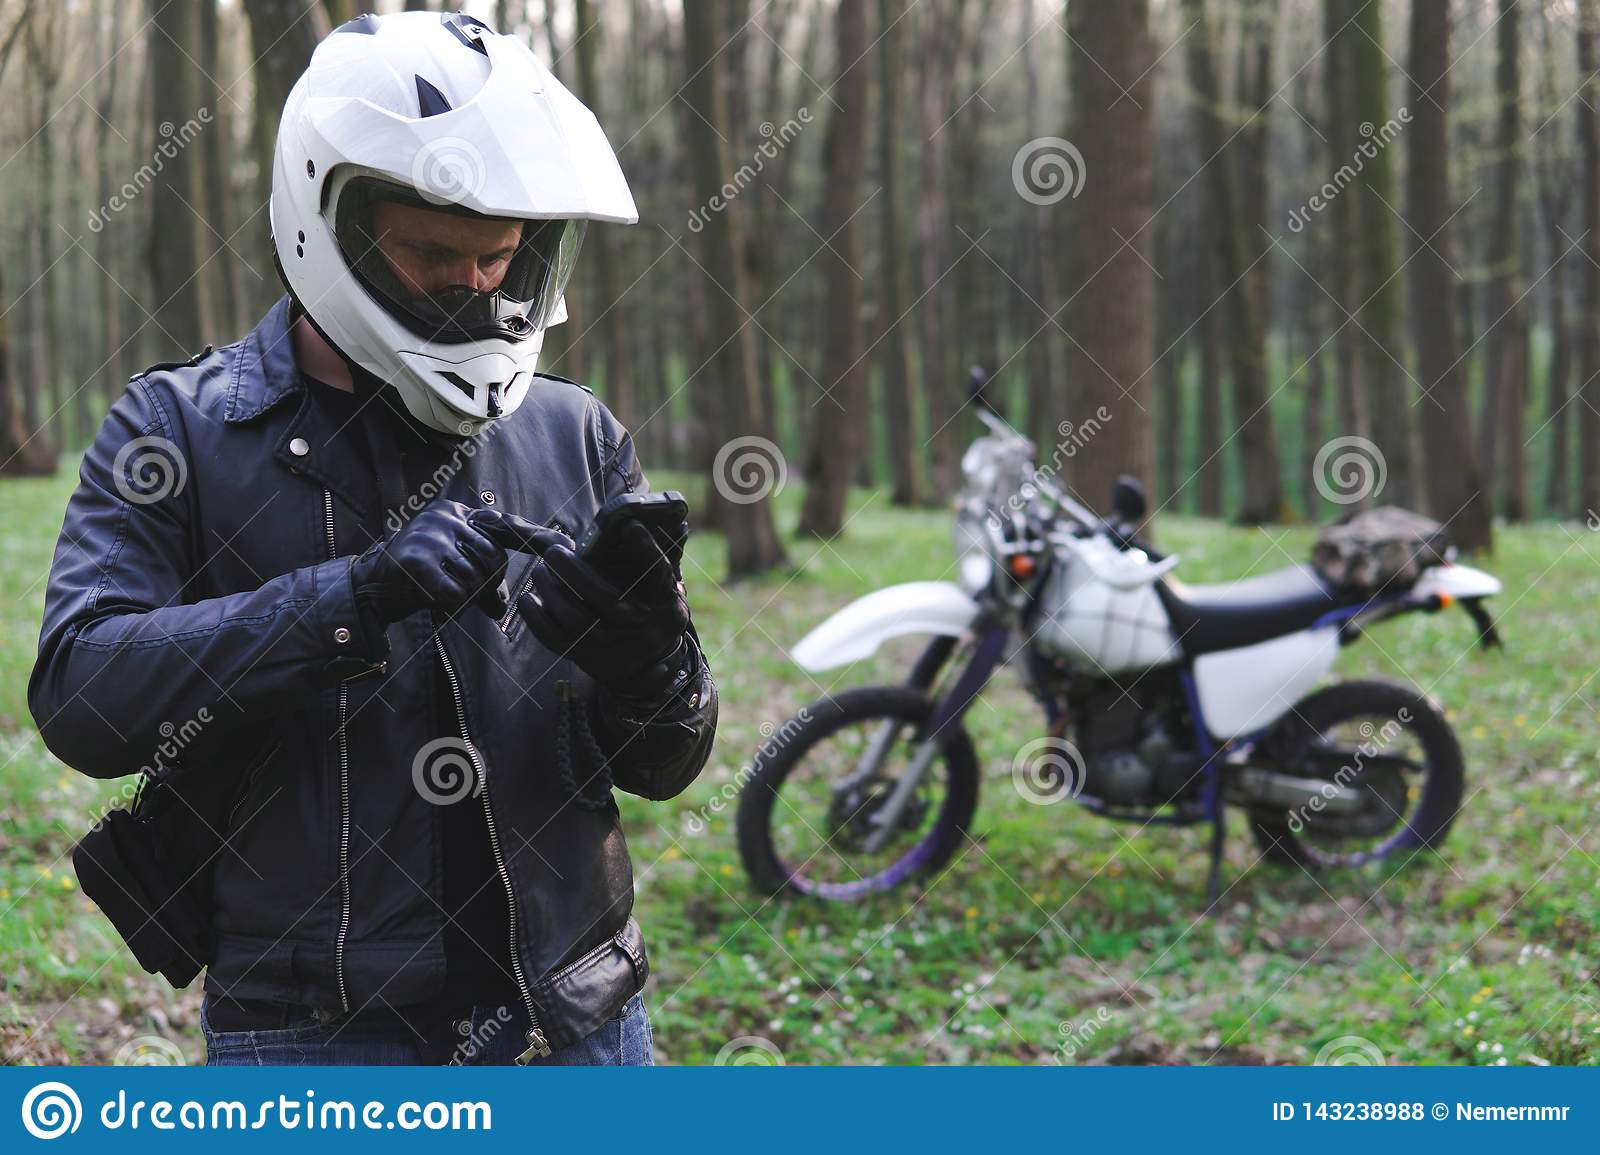helmet: (270, 35, 612, 402)
